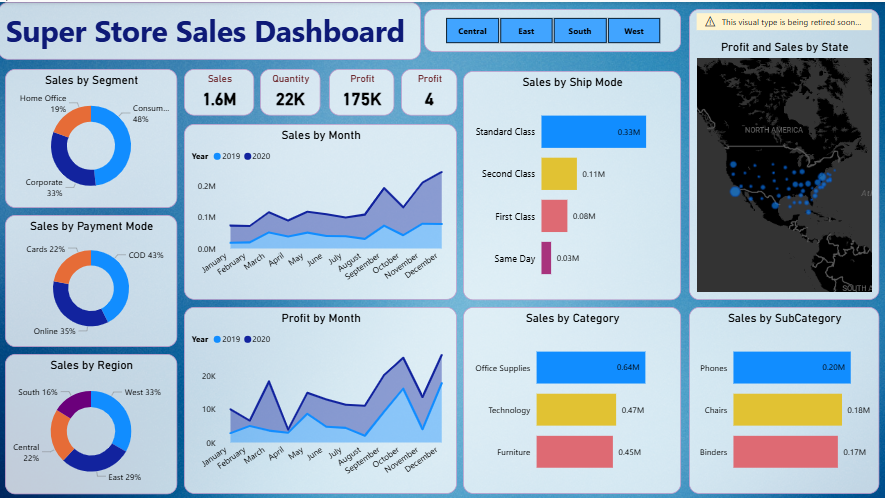

The dashboard page shown, as its layout file describes it:
{"tool":"powerbi","page":{"name":"Page 1","canvas":[1280,720],"ordinal":0},"visuals":[{"type":"clusteredBarChart","title":"Sales by Category","fields":{"Category":["SuperStore_Sales_Dataset.Category"],"Y":["Sum(SuperStore_Sales_Dataset.Sales)"]},"box":[669.6,439.2,313.9,269.3],"z":0},{"type":"clusteredBarChart","title":"Sales by Ship Mode","fields":{"Category":["SuperStore_Sales_Dataset.Ship Mode"],"Y":["Sum(SuperStore_Sales_Dataset.Sales)"]},"box":[669.6,99.4,313.9,329.8],"z":1000},{"type":"stackedAreaChart","title":"Sales by Month","fields":{"Y":["Sum(SuperStore_Sales_Dataset.Sales)"],"Category":["SuperStore_Sales_Dataset.Order Date.Variation.Date Hierarchy.Month"],"Series":["SuperStore_Sales_Dataset.Order Date.Variation.Date Hierarchy.Year"]},"box":[267.8,175.7,393.1,253.4],"z":2000},{"type":"stackedAreaChart","title":"Profit by Month","fields":{"Category":["SuperStore_Sales_Dataset.Order Date.Variation.Date Hierarchy.Month"],"Series":["SuperStore_Sales_Dataset.Order Date.Variation.Date Hierarchy.Year"],"Y":["Sum(SuperStore_Sales_Dataset.Profit)"]},"box":[267.8,439.2,393.1,269.3],"z":3000},{"type":"map","title":"Profit and Sales by State","fields":{"Category":["SuperStore_Sales_Dataset.State"],"Size":["Sum(SuperStore_Sales_Dataset.Sales)"]},"box":[995,10.1,273.6,419],"z":4000},{"type":"donutChart","title":"Sales by Segment","fields":{"Category":["SuperStore_Sales_Dataset.Segment"],"Y":["Sum(SuperStore_Sales_Dataset.Sales)"]},"box":[10.1,96.5,247.7,200.2],"z":5000},{"type":"donutChart","title":"Sales by Region","fields":{"Category":["SuperStore_Sales_Dataset.Region"],"Y":["Sum(SuperStore_Sales_Dataset.Sales)"]},"box":[10.1,506.9,247.7,201.6],"z":6000},{"type":"donutChart","title":"Sales by Payment Mode","fields":{"Category":["SuperStore_Sales_Dataset.Payment Mode"],"Y":["Sum(SuperStore_Sales_Dataset.Sales)"]},"box":[10.1,306.7,247.7,190.1],"z":7000},{"type":"slicer","fields":{"Values":["SuperStore_Sales_Dataset.Region"]},"box":[613.4,10.1,370.1,61.9],"z":8000},{"type":"textbox","box":[0,0,609,83],"z":9000},{"type":"card","title":"Sales","fields":{"Values":["Sum(SuperStore_Sales_Dataset.Sales)"]},"box":[267.1,97.1,101.4,67.1],"z":10000},{"type":"card","title":"Quantity","fields":{"Values":["Sum(SuperStore_Sales_Dataset.Quantity)"]},"box":[377.1,97.1,87.1,67.1],"z":11000},{"type":"card","title":"Profit","fields":{"Values":["Sum(SuperStore_Sales_Dataset.Profit)"]},"box":[477.1,97.1,94.3,67.1],"z":12000},{"type":"card","title":"Profit","fields":{"Values":["Avg(SuperStore_Sales_Dataset.AvgDelivery)"]},"box":[580,97.1,81.4,67.1],"z":13000},{"type":"clusteredBarChart","title":"Sales by SubCategory","fields":{"Category":["SuperStore_Sales_Dataset.Sub-Category"],"Y":["Sum(SuperStore_Sales_Dataset.Sales)"]},"box":[995,439.2,273.6,269.3],"z":14000}]}

Visuals, with their boxes in screenshot pixels (x1, y1, x2, y2), scaled from the page's 1280x720 canvas onto the 885x498 screenshot:
"Sales by Category" clusteredBarChart: 463,304,680,490
"Sales by Ship Mode" clusteredBarChart: 463,69,680,297
"Sales by Month" stackedAreaChart: 185,122,457,297
"Profit by Month" stackedAreaChart: 185,304,457,490
"Profit and Sales by State" map: 688,7,877,297
"Sales by Segment" donutChart: 7,67,178,205
"Sales by Region" donutChart: 7,351,178,490
"Sales by Payment Mode" donutChart: 7,212,178,344
slicer - SuperStore_Sales_Dataset.Region: 424,7,680,50
textbox: 0,0,421,57
"Sales" card: 185,67,255,114
"Quantity" card: 261,67,321,114
"Profit" card: 330,67,395,114
"Profit" card: 401,67,457,114
"Sales by SubCategory" clusteredBarChart: 688,304,877,490
